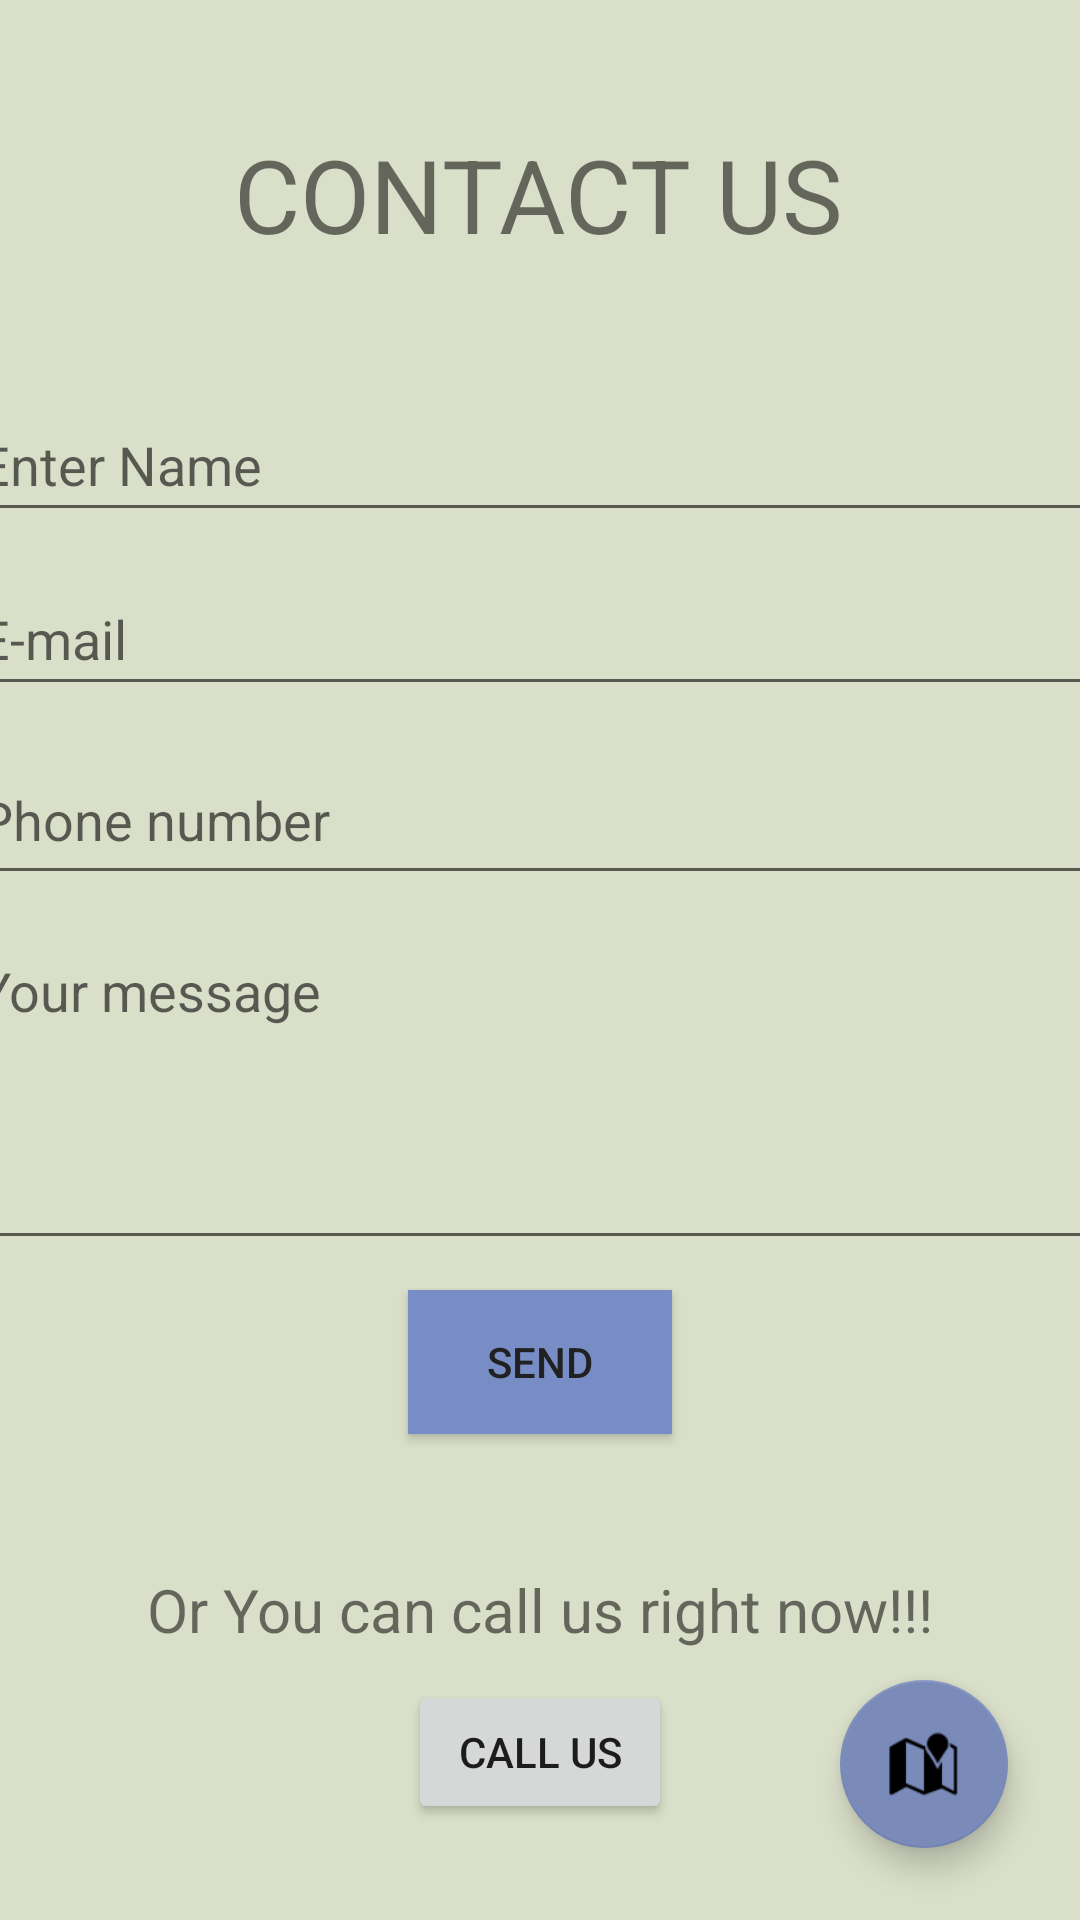

Locate icon controls on the screen. Image size 1080×1920, boxes as bbox=[x1, y1, x2, y2].
map: bbox=[840, 1680, 1008, 1848]
